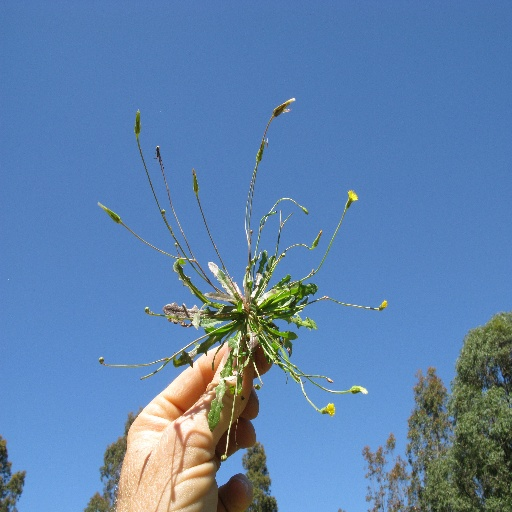hand: (112, 348, 267, 508)
